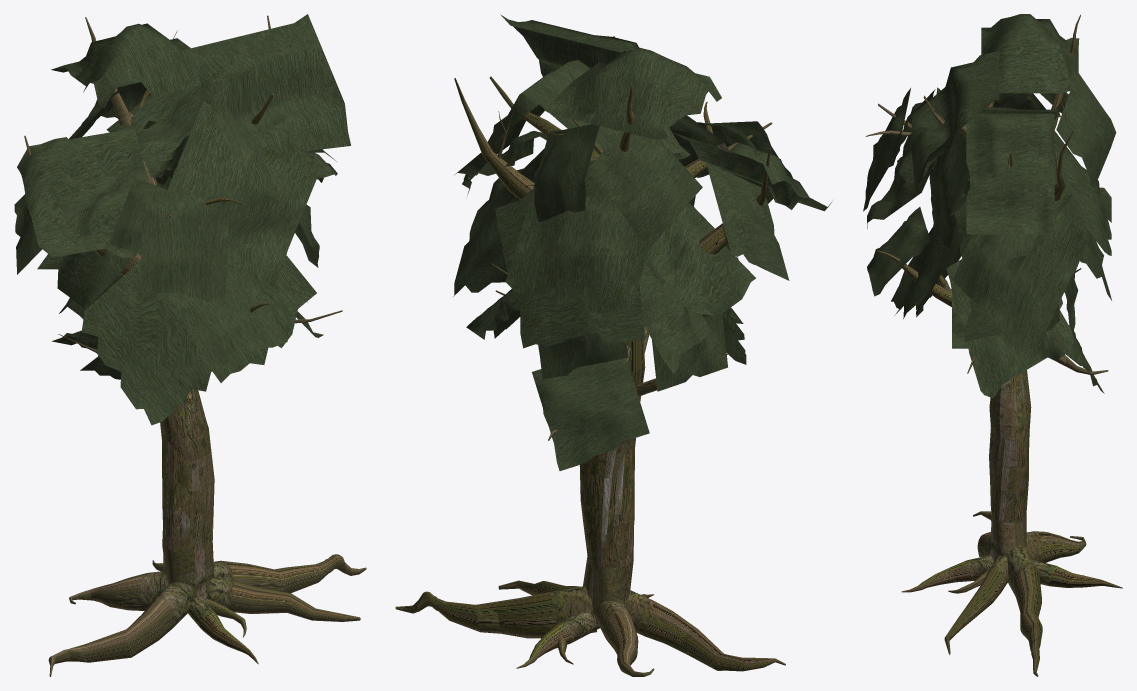
Rendered from Tree_Maple_Textured.fbx.
The picture shows the model from 3 angles, left to right: view 1: azimuth 30°, elevation 25°; view 2: azimuth 150°, elevation 25°; view 3: azimuth 270°, elevation 25°; orthographic projection. The views are drawn at different scales.
Visible parts, largest first — view 1: Tree1_Shrunk; view 2: Tree1_Shrunk; view 3: Tree1_Shrunk.
Part boxes in pixels (x1,y1,x2,y2): Tree1_Shrunk: (14, 14, 366, 676); Tree1_Shrunk: (395, 14, 832, 676); Tree1_Shrunk: (863, 14, 1122, 676).
Size of the model in its own units: 2322 by 3559 by 1503.
Materials: 2 (2 with a texture image).
